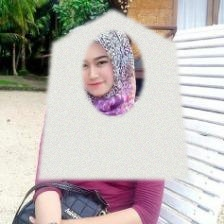Mukena: (37, 8, 189, 180)
